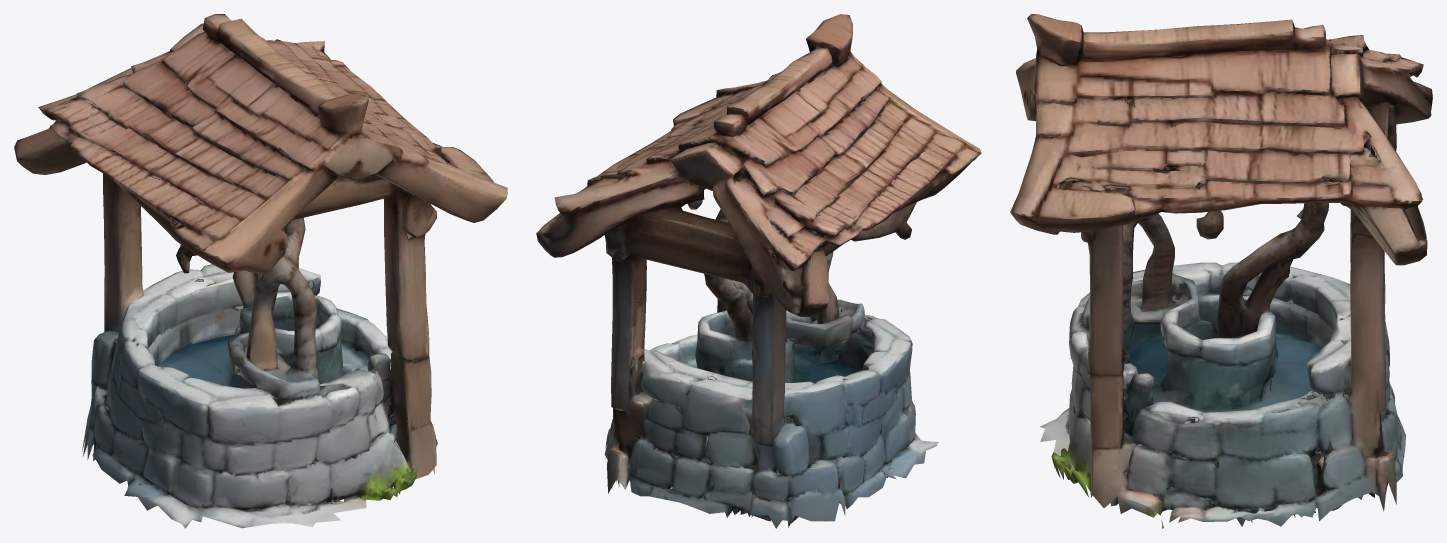
File: wooden-well.glb
The picture shows the model from 3 angles, left to right: view 1: azimuth 30°, elevation 25°; view 2: azimuth 150°, elevation 25°; view 3: azimuth 270°, elevation 25°; orthographic projection. The views are drawn at different scales.
Visible parts, largest first — view 1: geometry_0; view 2: geometry_0; view 3: geometry_0.
Part boxes in pixels (x1,y1,x2,y2): geometry_0: (14, 14, 507, 528); geometry_0: (536, 14, 981, 528); geometry_0: (1010, 14, 1432, 528).
Bounding box in the file's own units: 0.9009 × 1.2 × 0.9883.
1 material, 1 textured.
